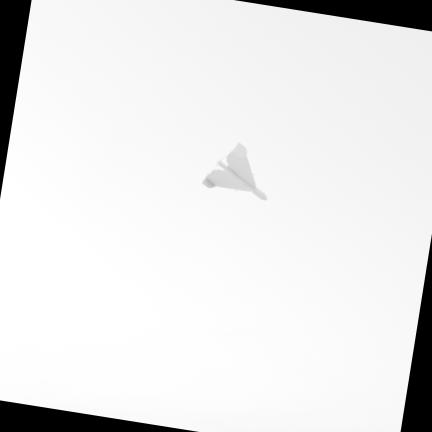Shahed: (202, 143, 266, 199)
